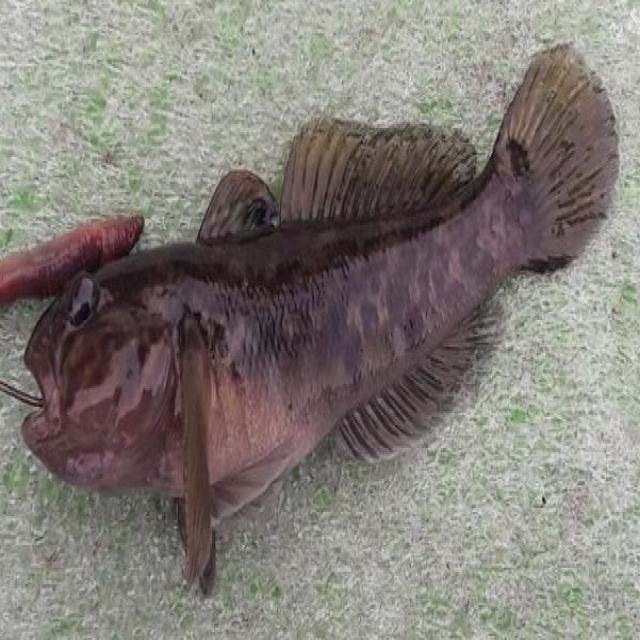Goby: (14, 33, 638, 590)
